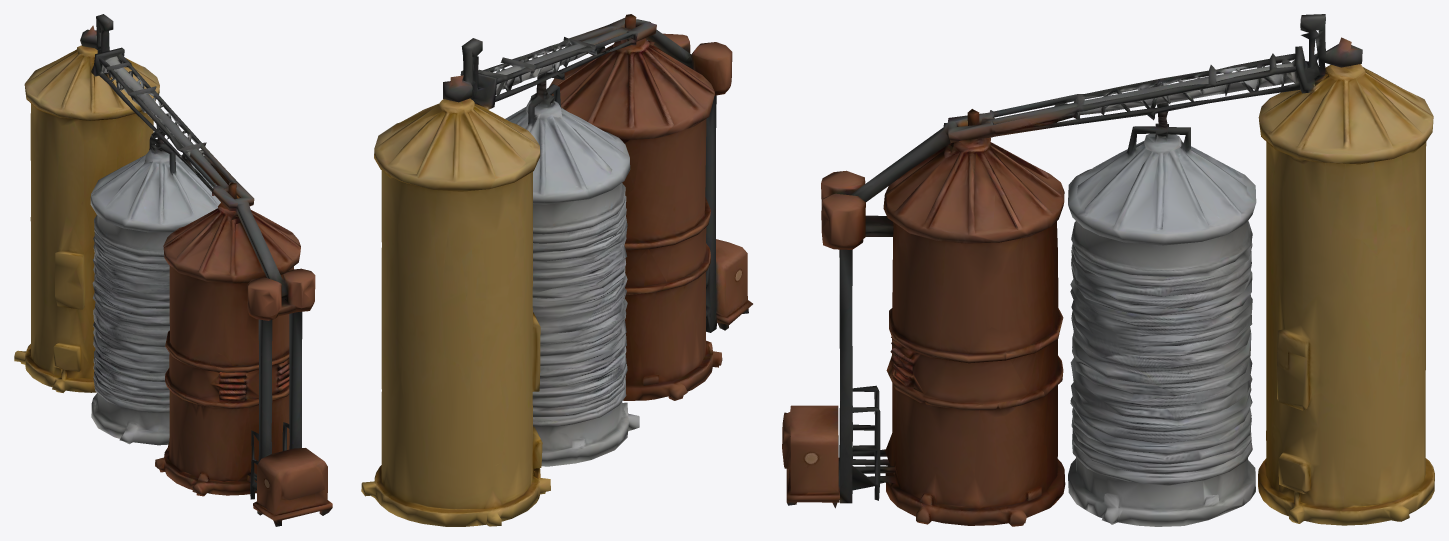
The model's file is silos.glb.
3 views of the same model, side by side, from view 1: azimuth 30°, elevation 25°; view 2: azimuth 150°, elevation 25°; view 3: azimuth 270°, elevation 25° (orthographic). The views are drawn at different scales.
Visible parts, largest first — view 1: tripo_node_704126c1-16ff-4bee-8117-10ce646a0af8; view 2: tripo_node_704126c1-16ff-4bee-8117-10ce646a0af8; view 3: tripo_node_704126c1-16ff-4bee-8117-10ce646a0af8.
Boxes of the visible parts, x1,y1,x2,y2 form: tripo_node_704126c1-16ff-4bee-8117-10ce646a0af8: [14, 14, 332, 526]; tripo_node_704126c1-16ff-4bee-8117-10ce646a0af8: [361, 14, 752, 526]; tripo_node_704126c1-16ff-4bee-8117-10ce646a0af8: [782, 14, 1434, 526].
Bounding box in the file's own units: 0.2865 × 0.8039 × 1.
Materials: 1 (1 with a texture image).
